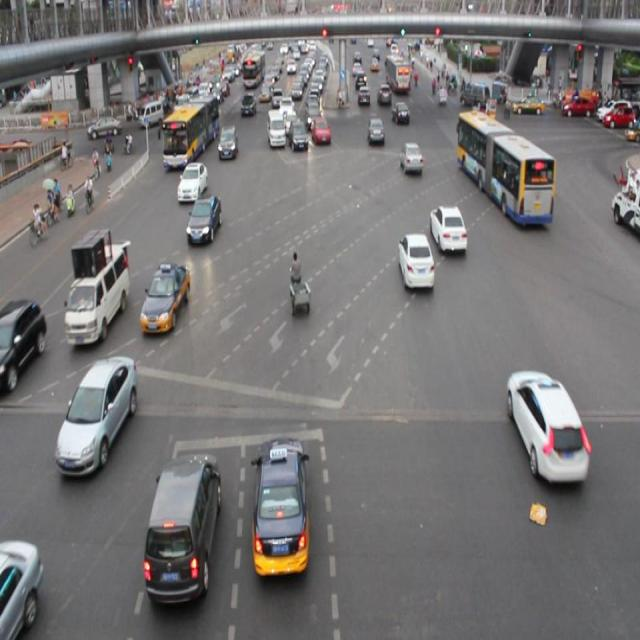car: (502, 368, 587, 482), (56, 356, 136, 475), (252, 438, 310, 579), (1, 297, 46, 393), (0, 534, 40, 640), (140, 262, 191, 334), (397, 233, 432, 288), (186, 195, 222, 244), (430, 205, 467, 252), (178, 162, 208, 204), (398, 141, 424, 178), (288, 118, 310, 156), (217, 125, 239, 162), (310, 115, 331, 148), (366, 115, 385, 147)
truck: (144, 453, 221, 603), (66, 232, 130, 346), (266, 110, 285, 150)
van: (458, 111, 552, 222), (163, 94, 217, 168)
